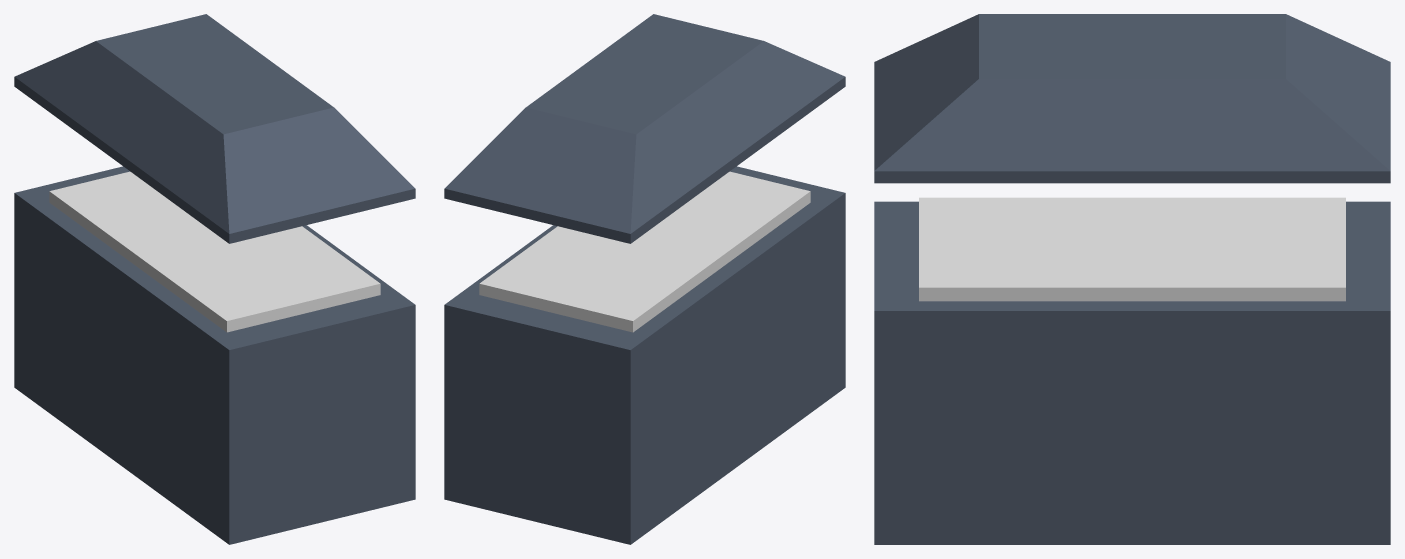
The model's file is entrega.fbx.
3 views of the same model, side by side, from view 1: azimuth 30°, elevation 25°; view 2: azimuth 150°, elevation 25°; view 3: azimuth 270°, elevation 25° (orthographic). The views are drawn at different scales.
Parts seen in each view (by area): view 1: Cube, Cube.001; view 2: Cube, Cube.001; view 3: Cube, Cube.001.
Part boxes in pixels (left/top/right/bottom): Cube: left=14, top=166, right=415, bottom=544; Cube.001: left=14, top=14, right=415, bottom=243; Cube: left=444, top=166, right=845, bottom=544; Cube.001: left=444, top=14, right=845, bottom=243; Cube: left=874, top=197, right=1390, bottom=544; Cube.001: left=874, top=14, right=1390, bottom=183.
Bounding box in the file's own units: 100 × 190 × 200.
